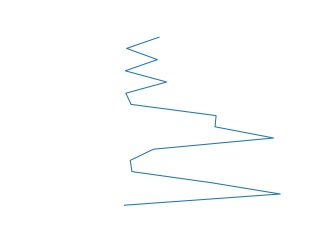majorRiverBedLagDeposit: (118, 36, 284, 210)
